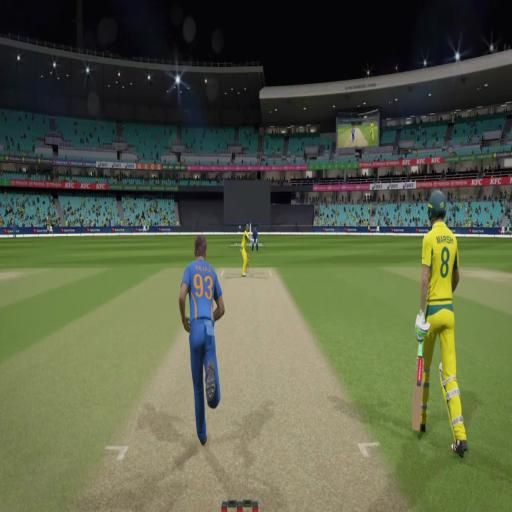ball: (238, 225, 241, 228)
